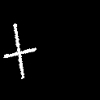single_crochet: (4, 24, 35, 78)
